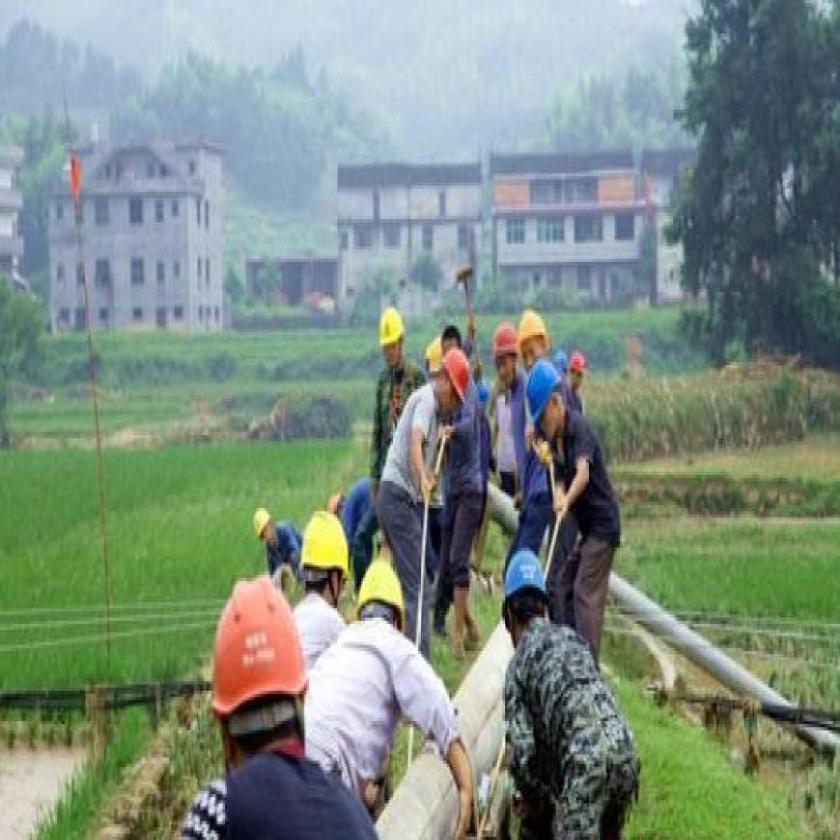Con_casco: (196, 570, 326, 769), (486, 526, 565, 663), (301, 503, 351, 610), (356, 555, 410, 652), (434, 347, 476, 429), (524, 359, 564, 437), (373, 291, 410, 375), (487, 314, 518, 392)
